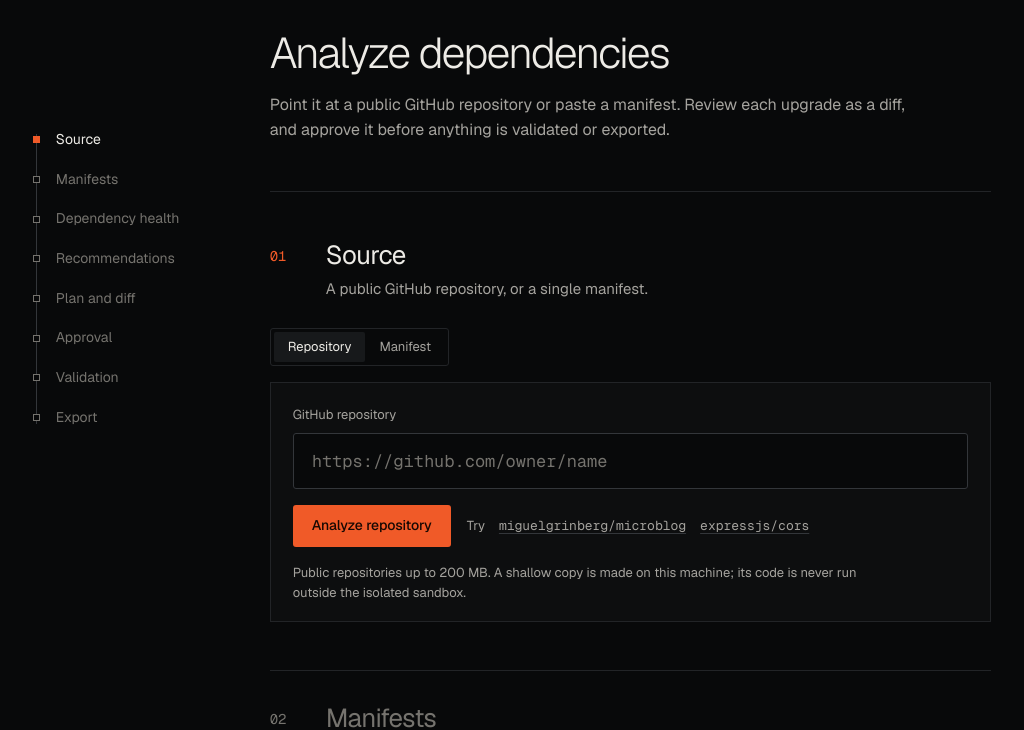
Test case: ManifestAnalyzer Component › switches tabs between paste and upload
Click the tab with test id "source-manifest". click: [405, 347]
box: top-left (366, 332), bottom-right (445, 362)
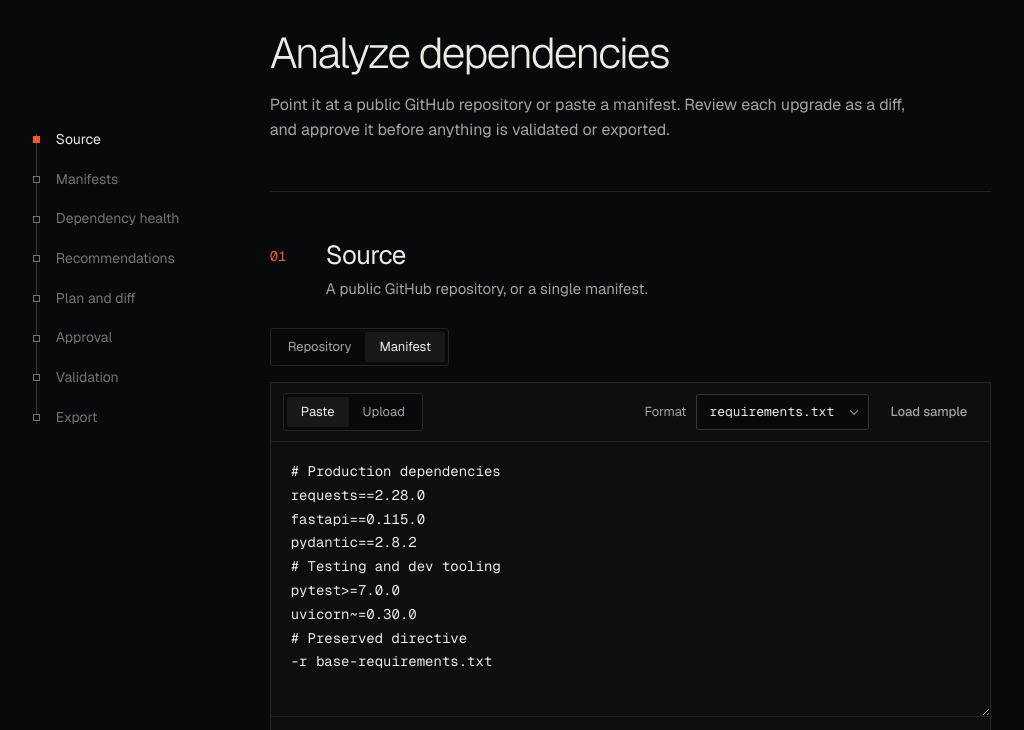
Click the tab with test id "tab-upload". click: [384, 412]
box: top-left (348, 397), bottom-right (419, 427)
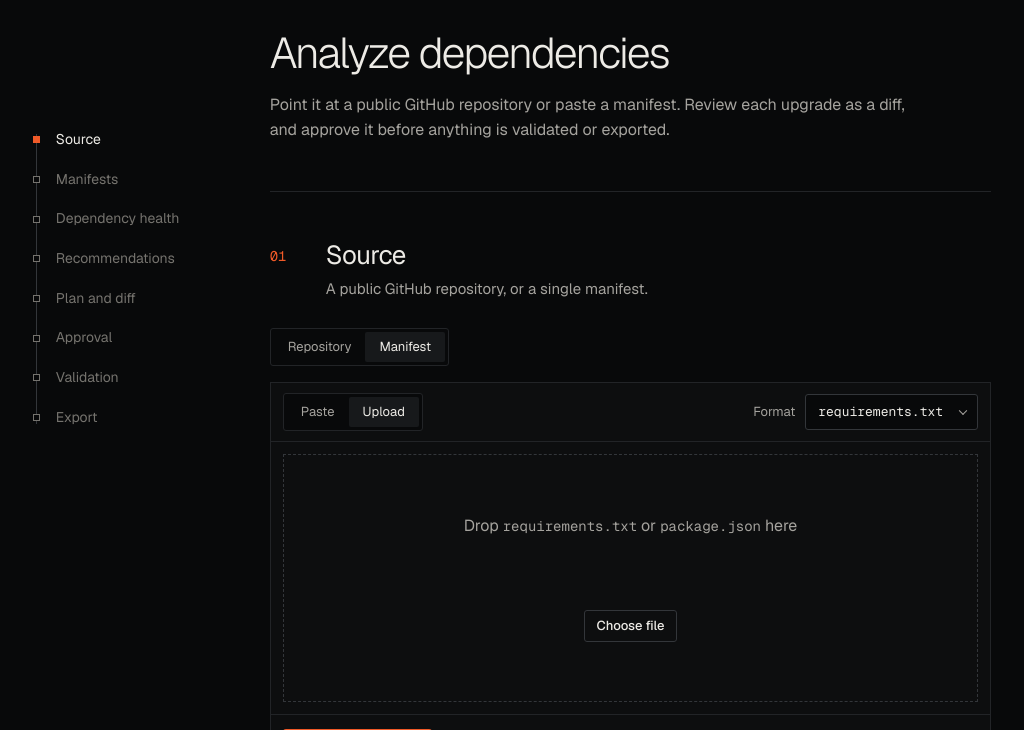
Expected: the element with test id "dropzone" is shown, top-left (283, 454), bottom-right (978, 702)
Click the tab with test id "tab-raw". click: [318, 412]
box: top-left (287, 397), bottom-right (348, 427)
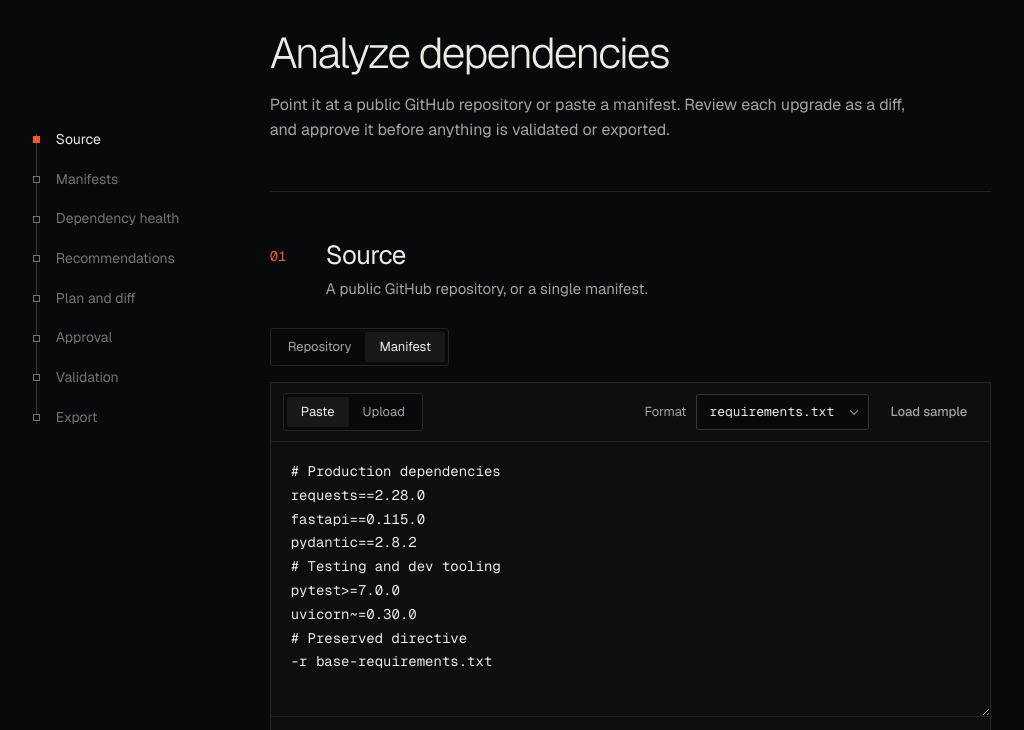
Expected: the text box with test id "raw-content-input" is shown, top-left (271, 442), bottom-right (990, 716)
